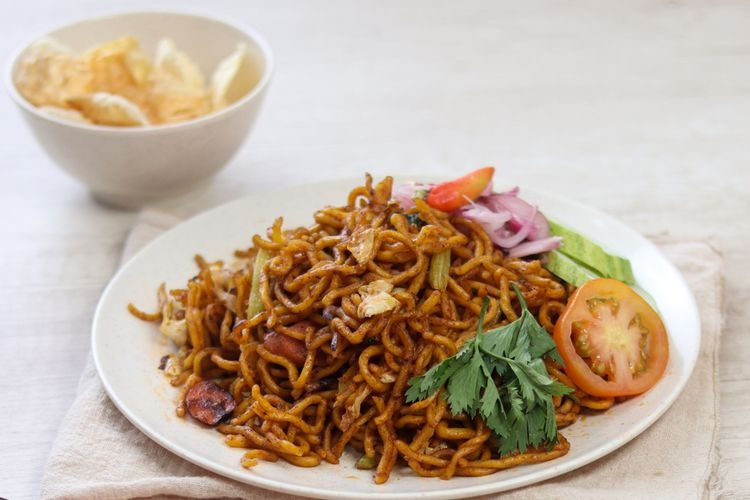mie_aceh: (143, 170, 627, 469)
